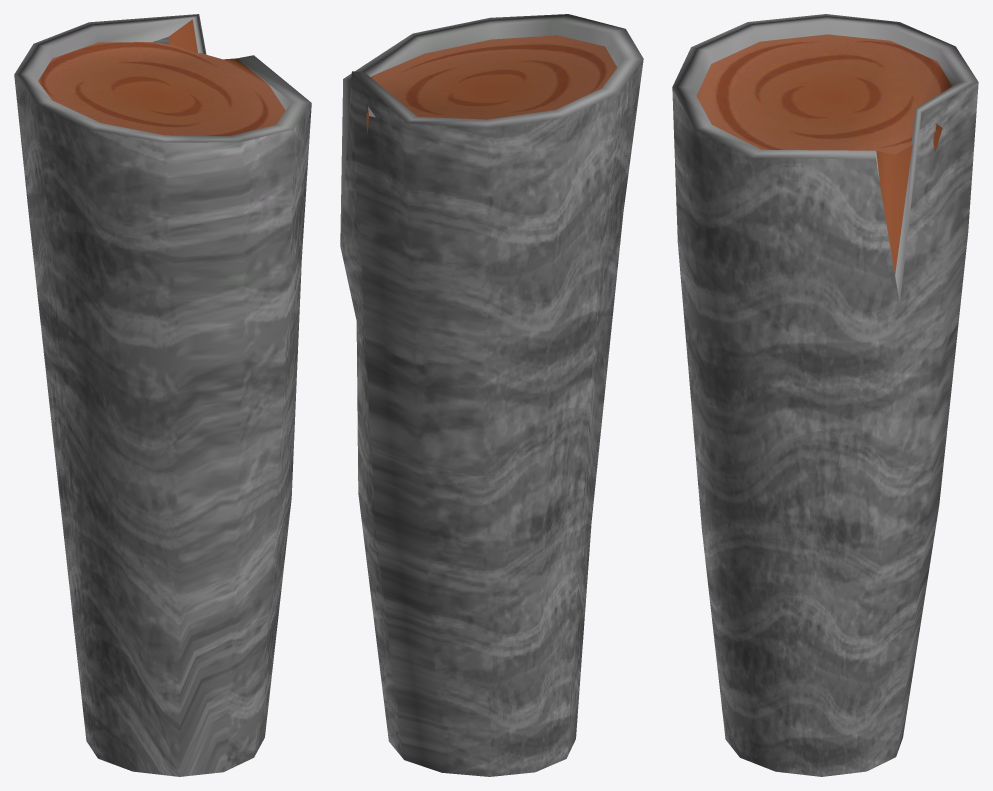
Rendered from CrudeHardWoodFenceHand.fbx.
The picture shows the model from 3 angles, left to right: view 1: azimuth 30°, elevation 25°; view 2: azimuth 150°, elevation 25°; view 3: azimuth 270°, elevation 25°; orthographic projection. The views are drawn at different scales.
Parts seen in each view (by area): view 1: LogDrop (1); view 2: LogDrop (1); view 3: LogDrop (1).
Boxes of the visible parts, bbox=[...] form: LogDrop (1): bbox=[14, 14, 311, 776]; LogDrop (1): bbox=[340, 14, 643, 776]; LogDrop (1): bbox=[672, 14, 978, 776].
Bounding box in the file's own units: 0.4243 × 1.12 × 0.4667.
2 materials, 2 textured.
